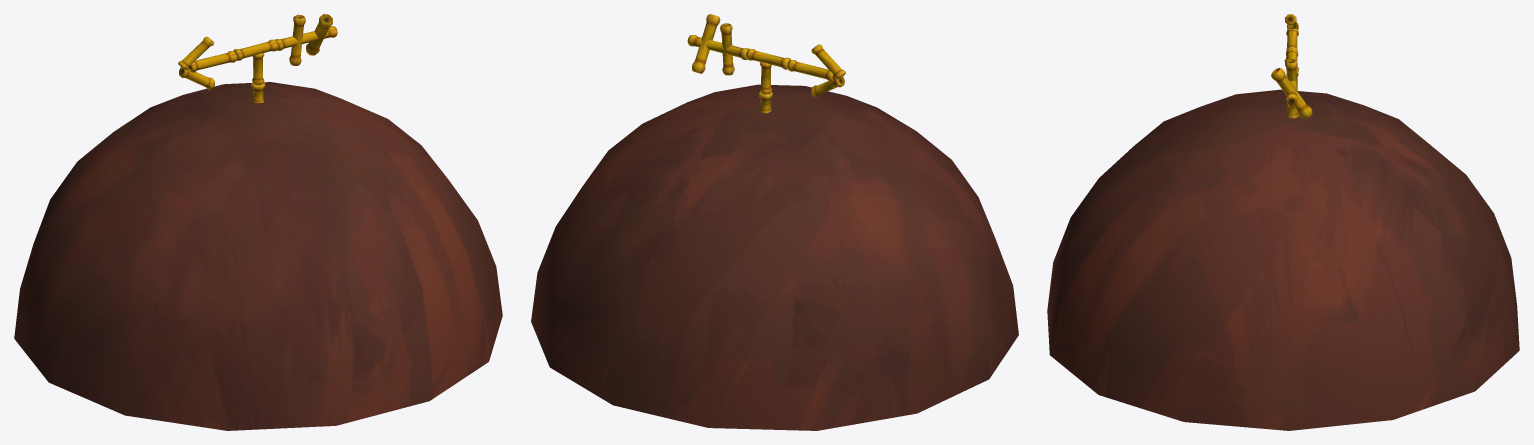
The model's file is MSH_PatrickHouse.obj.
3 views of the same model, side by side, from view 1: azimuth 30°, elevation 25°; view 2: azimuth 150°, elevation 25°; view 3: azimuth 270°, elevation 25° (orthographic).
Visible parts, largest first — view 1: MSH_PatrickHouse; view 2: MSH_PatrickHouse; view 3: MSH_PatrickHouse.
Boxes of the visible parts, x1,y1,x2,y2 form: MSH_PatrickHouse: [14, 14, 502, 430]; MSH_PatrickHouse: [531, 14, 1018, 430]; MSH_PatrickHouse: [1047, 14, 1519, 430].
Bounding box in the file's own units: 2.83 × 1.91 × 2.77.
Materials: 1 (1 with a texture image).
